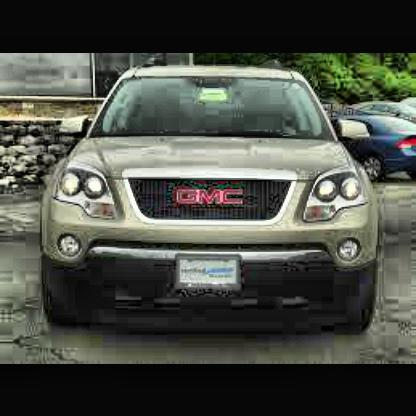GMC Acadia SUV 2012: (40, 58, 385, 340)
